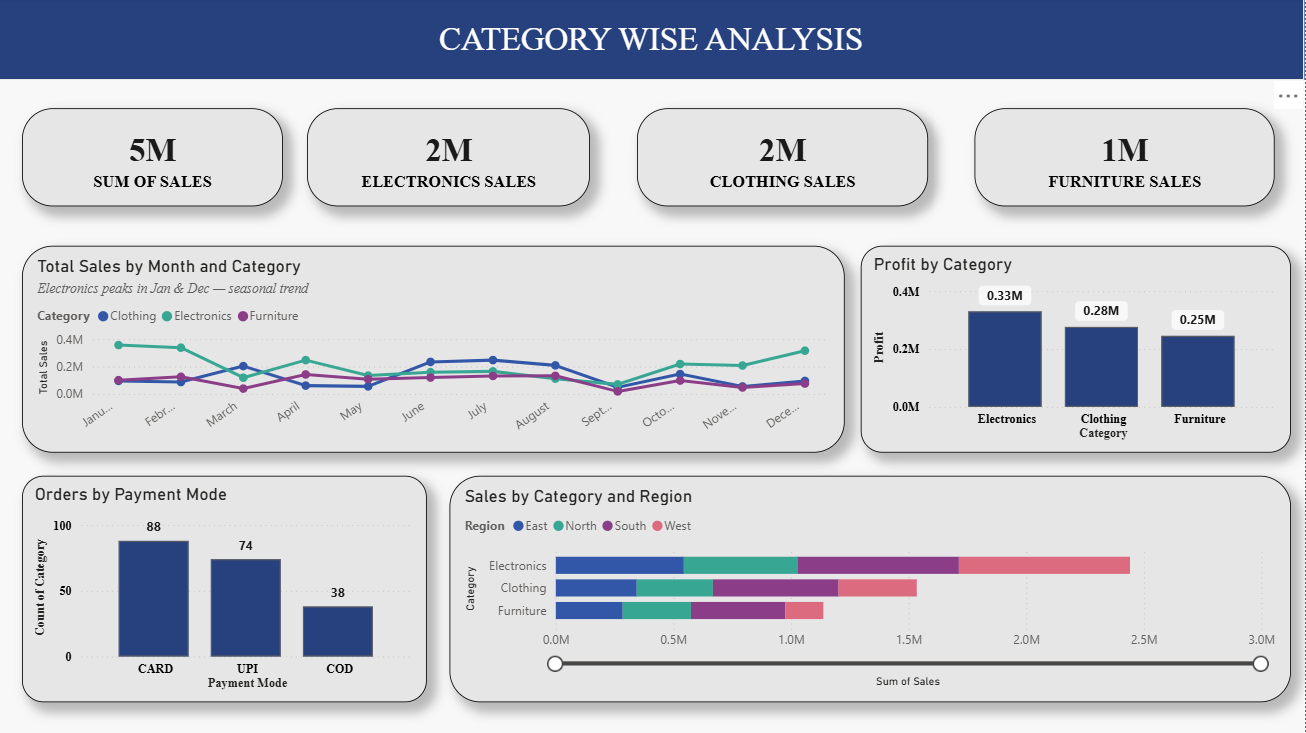

The page's visual inventory and layout, read from the dashboard file:
{"tool":"powerbi","page":{"name":"CATEGORY ANALYSIS","canvas":[1280,720],"ordinal":2},"visuals":[{"type":"textbox","box":[0,0,1279.5,80.8],"z":0},{"type":"card","fields":{"Values":["Sum(Customer_Behavior.Sales)"]},"box":[24.4,109,255.1,96.2],"z":1000},{"type":"card","fields":{"Values":["Customer_Behavior.Electronics sales"]},"box":[303.8,109,276.9,96.2],"z":2000},{"type":"card","fields":{"Values":["Customer_Behavior.CLOTHING SALES"]},"box":[625.6,109,284.6,96.2],"z":3000},{"type":"card","fields":{"Values":["Customer_Behavior.FURNITURE sales"]},"box":[956.4,109,293.6,96.2],"z":4000},{"type":"lineChart","fields":{"Series":["Customer_Behavior.Category"],"Y":["Customer_Behavior.Total Sales"],"Category":["Customer_Behavior.Order_Date.Variation.Date Hierarchy.Month"]},"box":[24.4,243.6,805.1,202.6],"z":5000},{"type":"columnChart","title":"Orders by Payment Mode","fields":{"Category":["Customer_Behavior.Payment_Mode"],"Y":["CountNonNull(Customer_Behavior.Category)"]},"box":[24.4,467.9,396.2,221.8],"z":6000},{"type":"barChart","title":"Sales by Category and Region","fields":{"Category":["Customer_Behavior.Category"],"Series":["Customer_Behavior.Region"],"Y":["Sum(Customer_Behavior.Sales)"]},"box":[442.3,467.9,823.1,221.8],"z":7000},{"type":"lineClusteredColumnComboChart","title":"Profit by Category","fields":{"Y":["Sum(Customer_Behavior.Profit)"],"Category":["Customer_Behavior.Category"]},"box":[844.9,243.6,420.5,202.6],"z":8000}]}

Visuals, with their boxes in screenshot pixels (x1, y1, x2, y2), scaled from the page's 1280x720 canvas onto the 1306x733 screenshot:
textbox: 0,0,1305,82
card - Sum(Customer_Behavior.Sales): 25,111,285,209
card - Customer_Behavior.Electronics sales: 310,111,592,209
card - Customer_Behavior.CLOTHING SALES: 638,111,929,209
card - Customer_Behavior.FURNITURE sales: 976,111,1275,209
lineChart - Customer_Behavior.Category x Customer_Behavior.Total Sales: 25,248,846,454
"Orders by Payment Mode" columnChart: 25,476,429,702
"Sales by Category and Region" barChart: 451,476,1291,702
"Profit by Category" lineClusteredColumnComboChart: 862,248,1291,454
